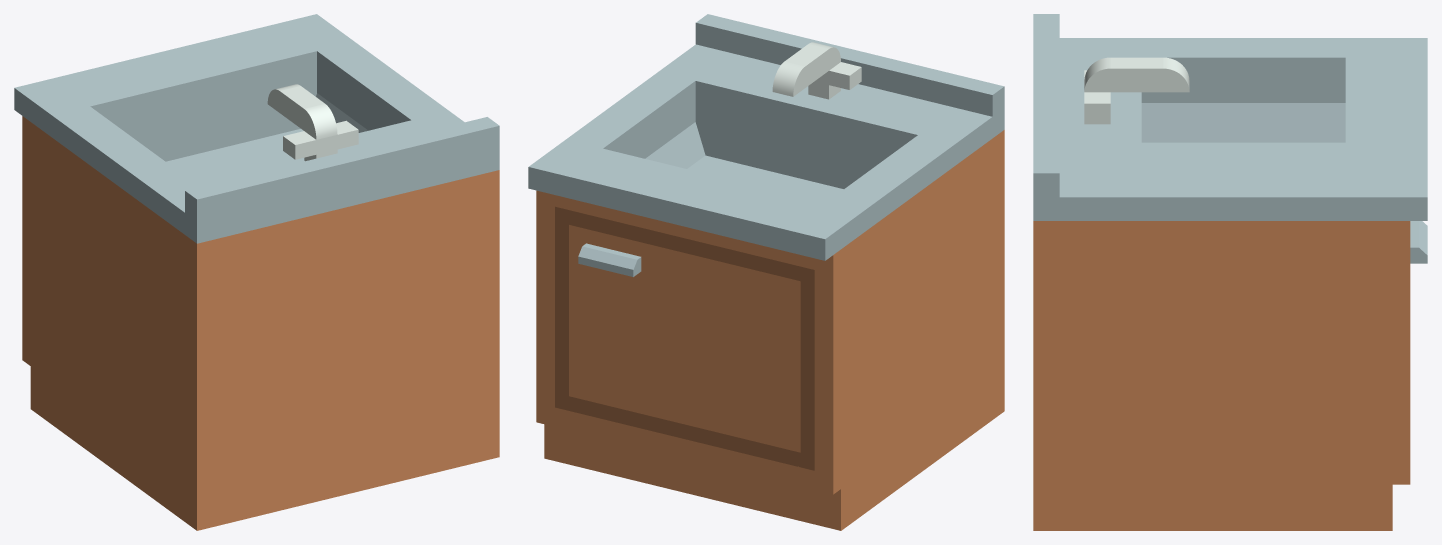
File: kitchenSink.dae
The picture shows the model from 3 angles, left to right: view 1: azimuth 30°, elevation 25°; view 2: azimuth 150°, elevation 25°; view 3: azimuth 270°, elevation 25°; orthographic projection. The views are drawn at different scales.
Parts seen in each view (by area): view 1: kitchenSink; view 2: kitchenSink, door; view 3: kitchenSink, door.
Part boxes in pixels (x1,y1,x2,y2): kitchenSink: (14, 14, 499, 530); kitchenSink: (528, 14, 1004, 530); door: (555, 206, 814, 470); kitchenSink: (1033, 14, 1427, 530); door: (1410, 221, 1427, 263).
Bounding box in the file's own units: 0.43 × 0.49 × 0.45.
